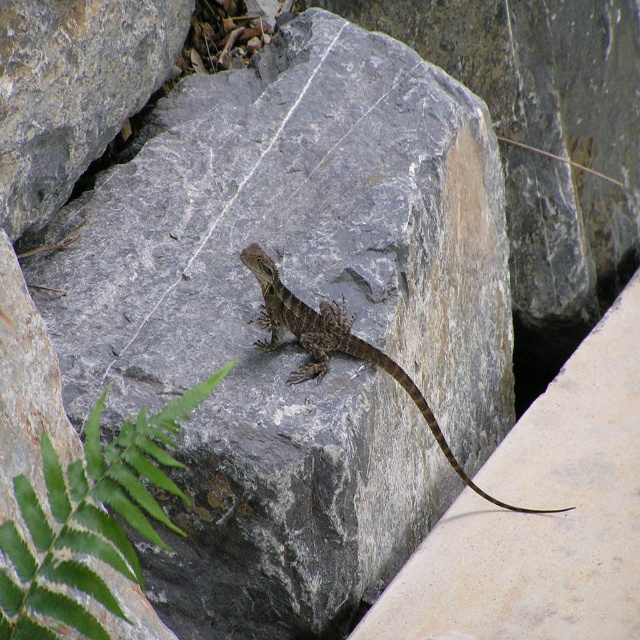Lizard: (245, 235, 514, 500)
